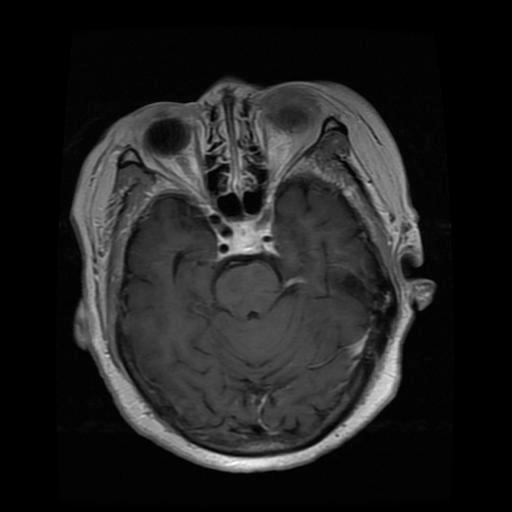Tumour-Pituitary: (200, 206, 285, 269)
